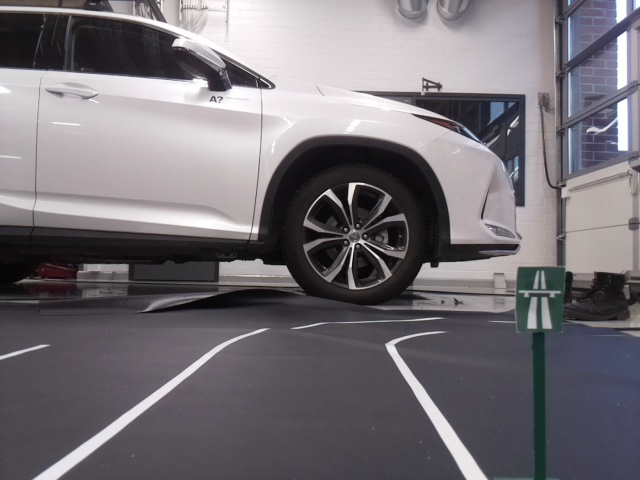HighwayEntrance: (521, 269, 560, 330)
